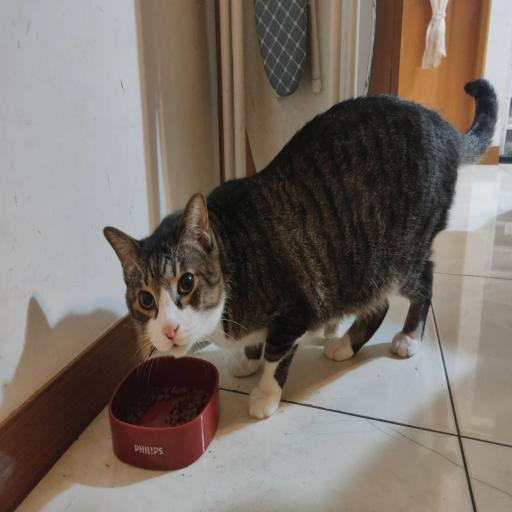cat: (108, 137, 478, 356)
